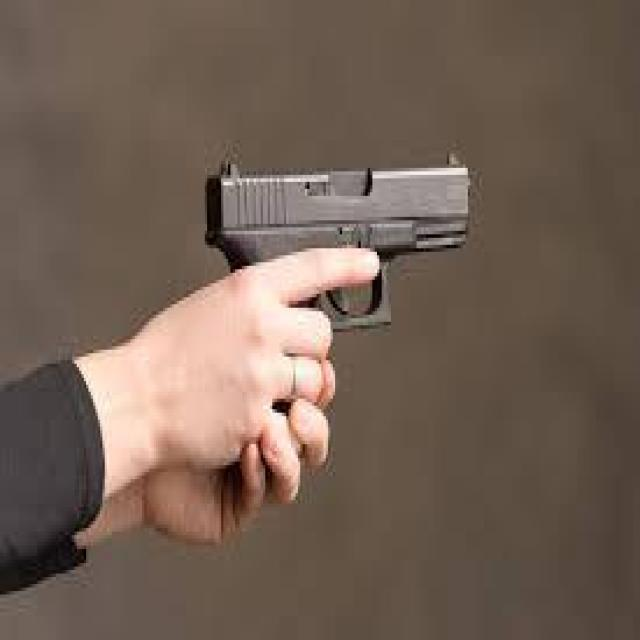gun: (205, 163, 470, 332)
